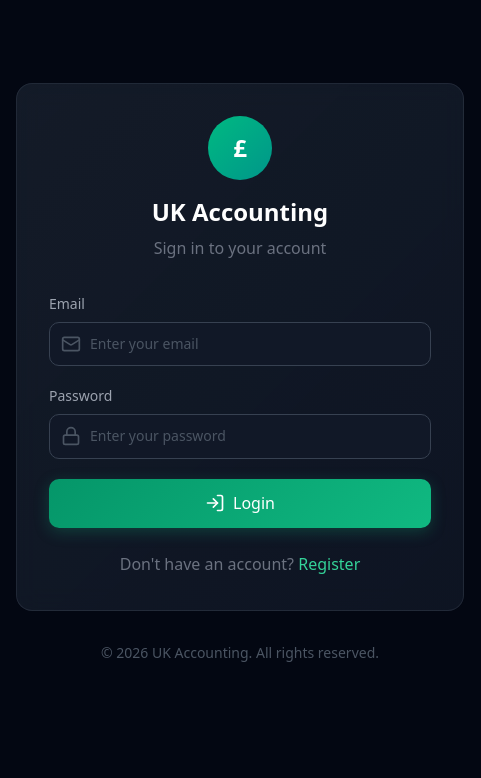
Test: App Component › navigation › should navigate to register page when register link is clicked
The width and height of the screenshot is (481, 778).
Click the link "Register" at (329, 564), box 298,553 -> 360,575
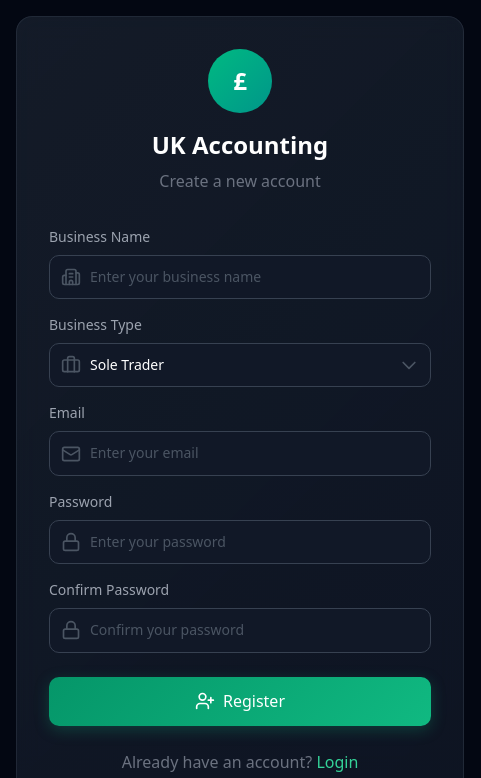
expect the text "Create a new account" is shown: met, box 159,170 -> 321,192
